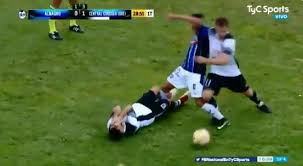fall: (100, 79, 192, 139)
